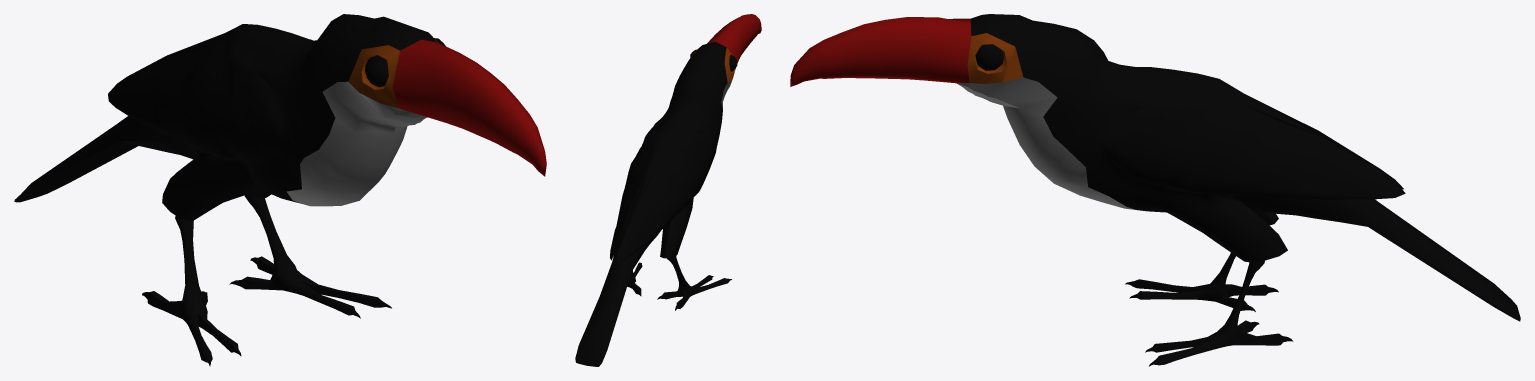
File: toucan.FBX
3 views of the same model, side by side, from view 1: azimuth 30°, elevation 25°; view 2: azimuth 150°, elevation 25°; view 3: azimuth 270°, elevation 25° (orthographic). The views are drawn at different scales.
Visible parts, largest first — view 1: VIFS22; view 2: VIFS22; view 3: VIFS22.
Boxes of the visible parts, <box> form: VIFS22: <box>14,14,546,366</box>; VIFS22: <box>575,14,761,366</box>; VIFS22: <box>790,14,1520,366</box>.
Size of the model in its own units: 14.92 by 27.71 by 55.72.
